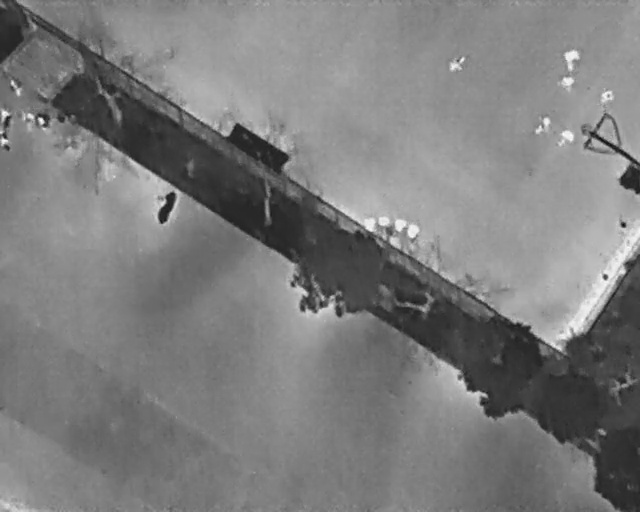Bicycle: (149, 184, 182, 228)
Person: (532, 111, 555, 139), (554, 125, 579, 150), (563, 45, 579, 74), (598, 86, 616, 109), (448, 53, 466, 72), (35, 112, 50, 132), (559, 74, 574, 92), (0, 110, 12, 132), (19, 112, 34, 129), (0, 131, 12, 152), (10, 77, 22, 97)
